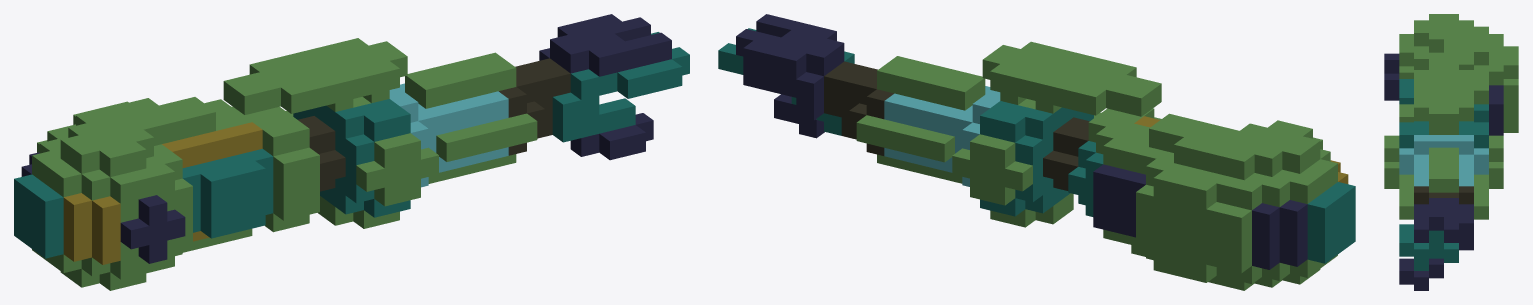
File: all-purpose_mecha-7.obj
3 views of the same model, side by side, from view 1: azimuth 30°, elevation 25°; view 2: azimuth 150°, elevation 25°; view 3: azimuth 270°, elevation 25° (orthographic). The views are drawn at different scales.
Visible parts, largest first — view 1: all-purpose_mecha-7; view 2: all-purpose_mecha-7; view 3: all-purpose_mecha-7.
Part boxes in pixels (x1,y1,x2,y2): all-purpose_mecha-7: (14,14,689,290); all-purpose_mecha-7: (718,14,1355,290); all-purpose_mecha-7: (1384,14,1518,290).
Size of the model in its own units: 35 by 8 by 9.
1 material, 1 textured.
